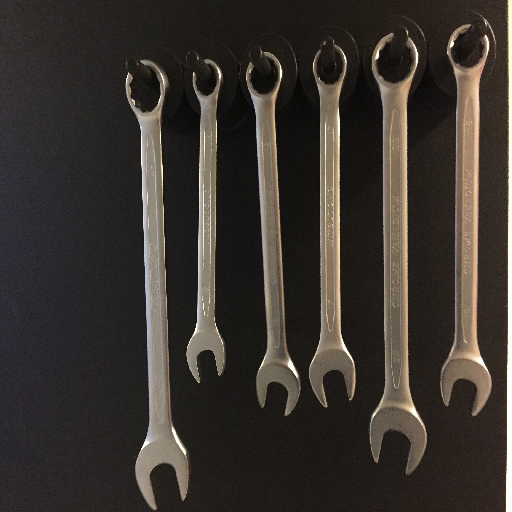bottom: (366, 404, 433, 477), (134, 436, 194, 512), (437, 353, 492, 422), (304, 345, 360, 410), (254, 359, 303, 418), (184, 332, 229, 387)
top: (370, 31, 420, 90), (121, 56, 170, 115), (446, 24, 491, 75), (244, 49, 284, 99), (311, 44, 348, 89), (190, 58, 223, 99)
